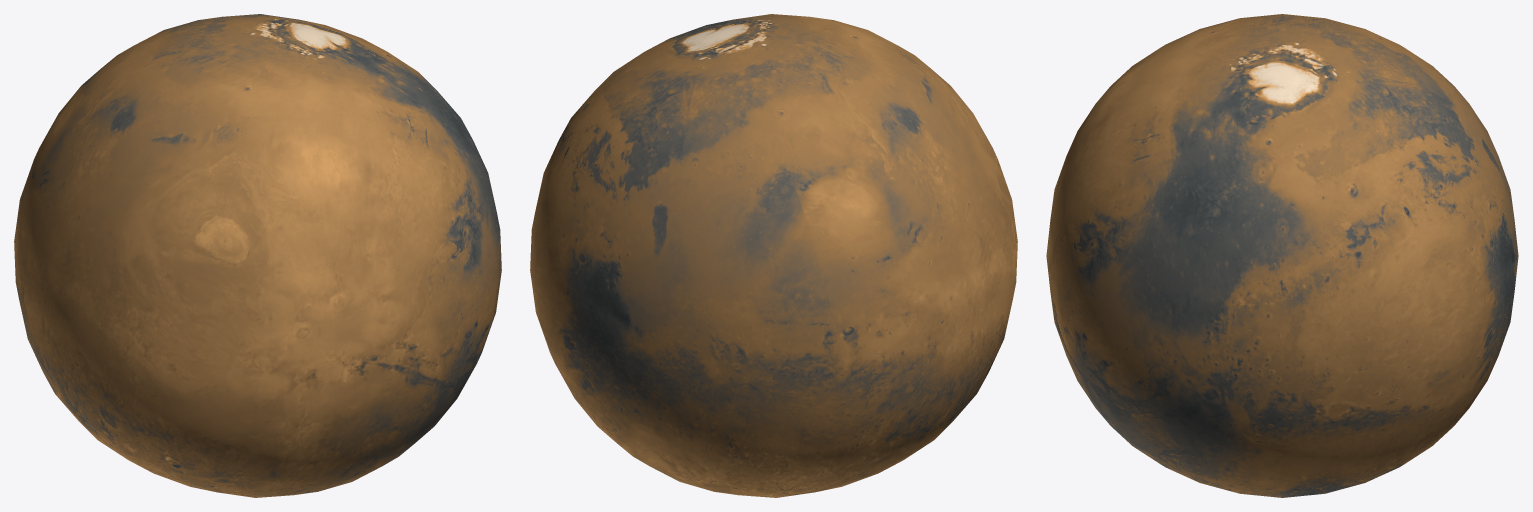
File: Mars_2K.fbx
3 views of the same model, side by side, from view 1: azimuth 30°, elevation 25°; view 2: azimuth 150°, elevation 25°; view 3: azimuth 270°, elevation 25° (orthographic).
Parts seen in each view (by area): view 1: Mars; view 2: Mars; view 3: Mars.
Boxes of the visible parts, x1,y1,x2,y2 form: Mars: [14, 14, 501, 497]; Mars: [530, 14, 1017, 497]; Mars: [1046, 14, 1518, 497].
Size of the model in its own units: 11076 by 11076 by 11045.
1 material, 1 textured.
